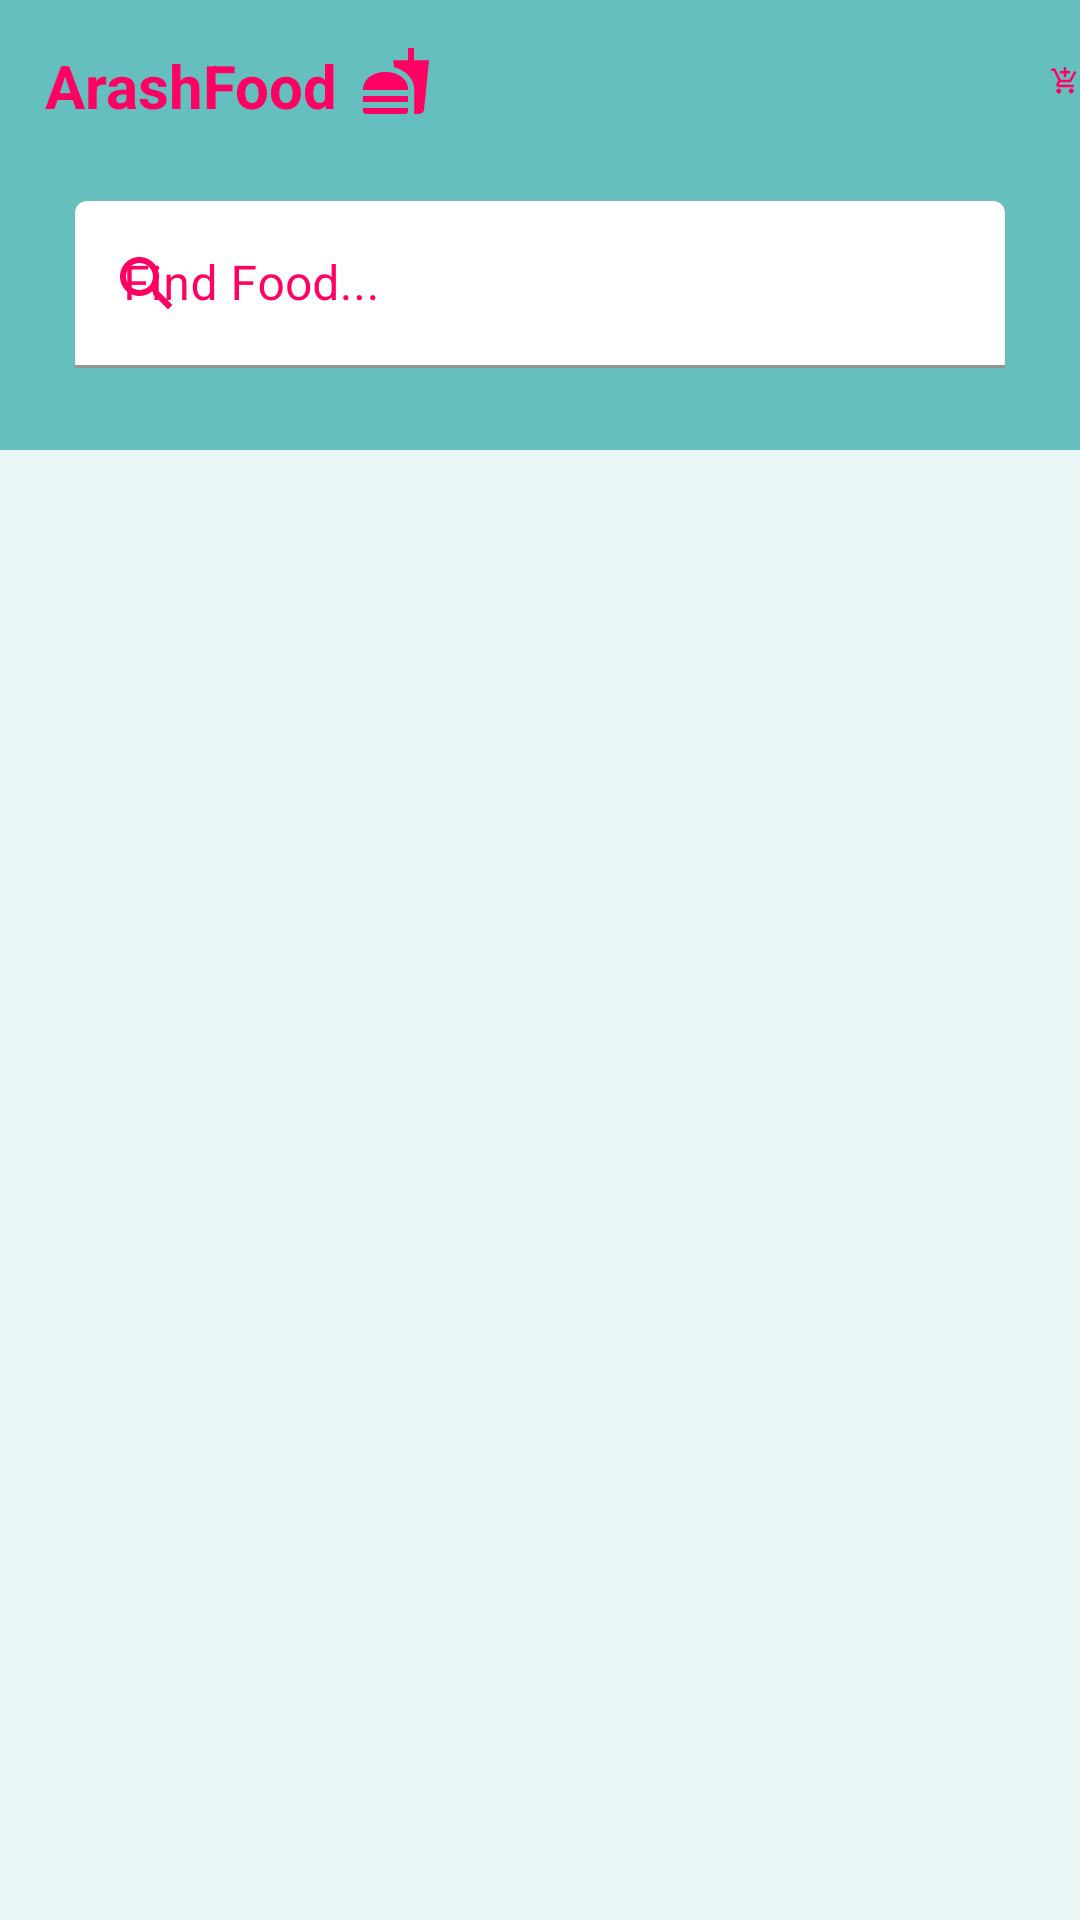

Icon click points for this 1080×1920 phone screenshot, format [x,y]:
add shopping cart: [1064,80]
fastfood: [396,81]
